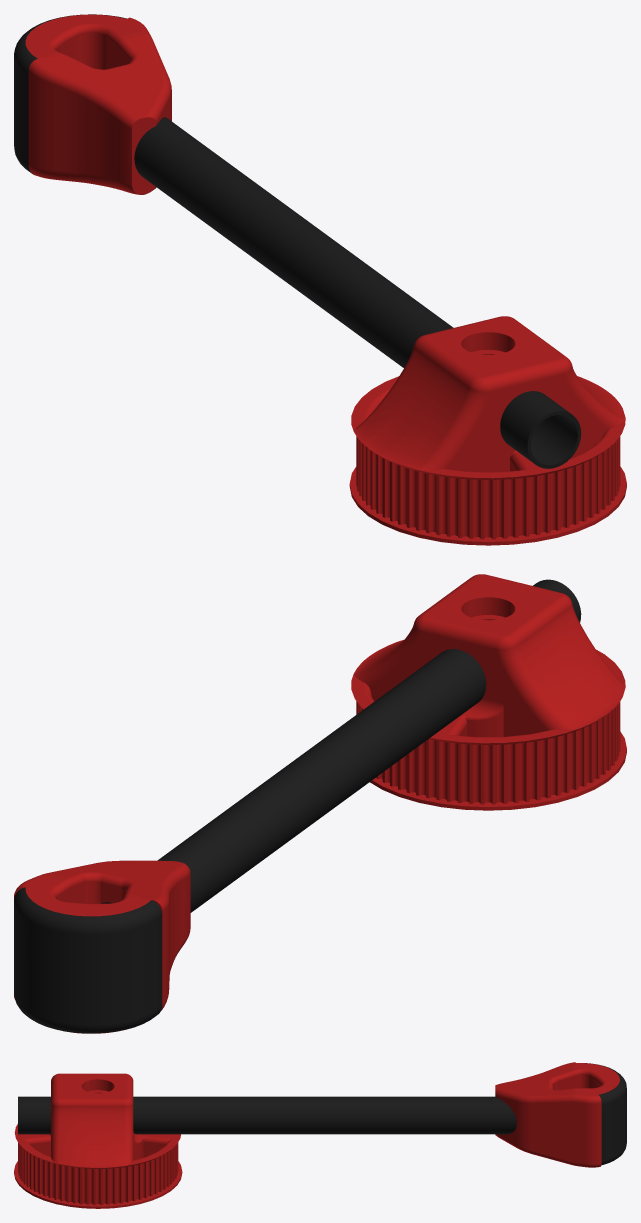
Rendered from RF_calf.dae.
3 renders of one model, top to bottom at view 1: azimuth 30°, elevation 25°; view 2: azimuth 150°, elevation 25°; view 3: azimuth 270°, elevation 25°, orthographic. The views are drawn at different scales.
Parts seen in each view (by area): view 1: KneeFBXASC032Flexion-FBXASC032HTDFBXASC0323MFBXASC03272T, CFFBXASC032Calf, claw, RubberFBXASC032Sole; view 2: KneeFBXASC032Flexion-FBXASC032HTDFBXASC0323MFBXASC03272T, CFFBXASC032Calf, RubberFBXASC032Sole, claw; view 3: KneeFBXASC032Flexion-FBXASC032HTDFBXASC0323MFBXASC03272T, CFFBXASC032Calf, claw, RubberFBXASC032Sole.
Boxes of the visible parts, left/top/right/bottom form: KneeFBXASC032Flexion-FBXASC032HTDFBXASC0323MFBXASC03272T: left=349, top=316, right=626, bottom=545; CFFBXASC032Calf: left=134, top=117, right=581, bottom=468; claw: left=25, top=14, right=171, bottom=194; RubberFBXASC032Sole: left=14, top=14, right=126, bottom=175; KneeFBXASC032Flexion-FBXASC032HTDFBXASC0323MFBXASC03272T: left=351, top=574, right=626, bottom=810; CFFBXASC032Calf: left=101, top=579, right=581, bottom=912; RubberFBXASC032Sole: left=14, top=887, right=162, bottom=1033; claw: left=14, top=860, right=190, bottom=1033; KneeFBXASC032Flexion-FBXASC032HTDFBXASC0323MFBXASC03272T: left=14, top=1073, right=182, bottom=1208; CFFBXASC032Calf: left=18, top=1096, right=516, bottom=1134; claw: left=495, top=1062, right=619, bottom=1167; RubberFBXASC032Sole: left=585, top=1063, right=626, bottom=1165.
Size of the model in its own units: 0.0714 by 0.0438 by 0.2602.
